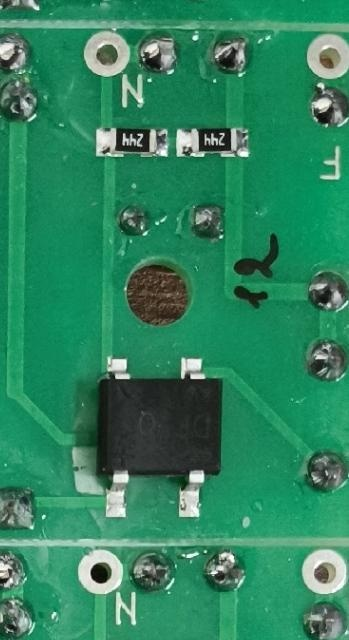chip-resistor: (92, 125, 170, 161), (174, 124, 253, 158)
ic: (96, 350, 227, 522)
